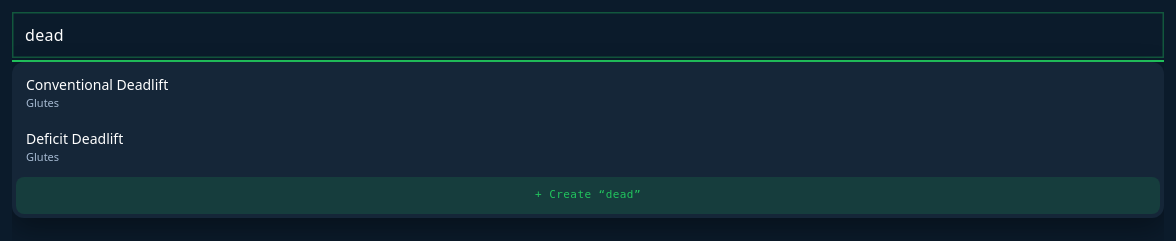
it: ExercisePicker dropdown lifecycle › closes for good when a row is picked by pointer
Press the mouse on the option "Deficit Deadlift Glutes": (75, 138) x1=16 y1=120 x2=1160 y2=173
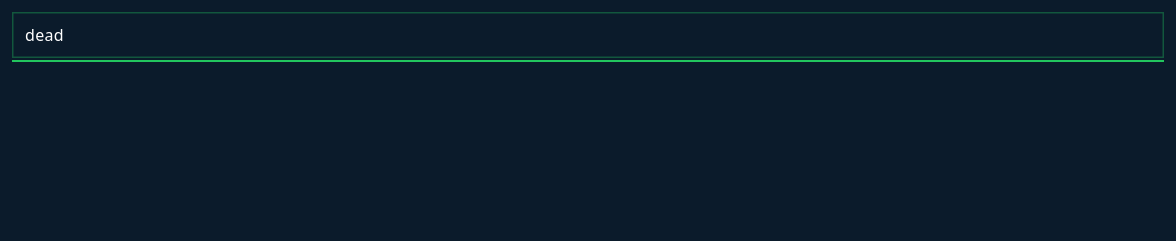
Expected: the list is gone
